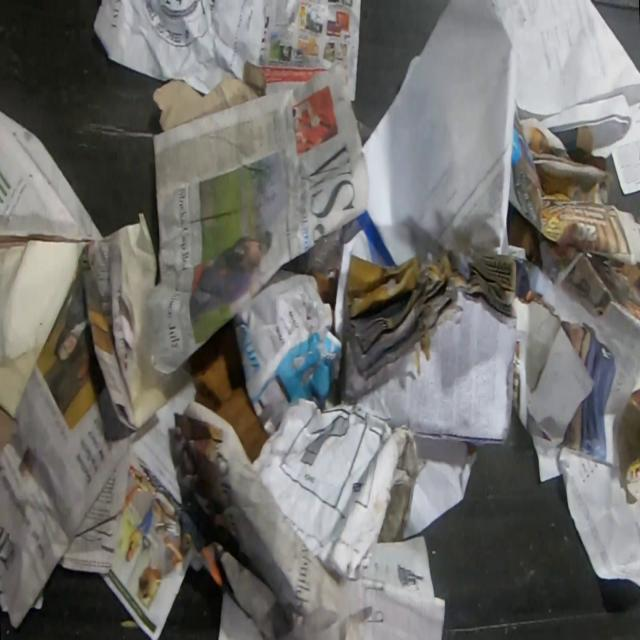cardboard: (516, 116, 640, 264), (187, 314, 271, 461), (152, 72, 259, 131), (508, 211, 539, 265), (242, 60, 266, 97), (0, 406, 16, 455), (625, 455, 640, 500), (619, 262, 640, 291)
soft_plastic: (510, 119, 640, 318), (295, 225, 343, 276)
